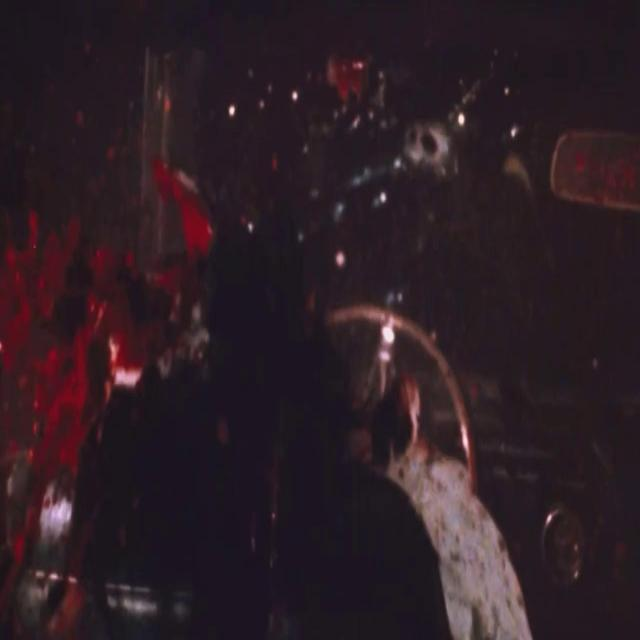flood: (0, 151, 250, 613)
